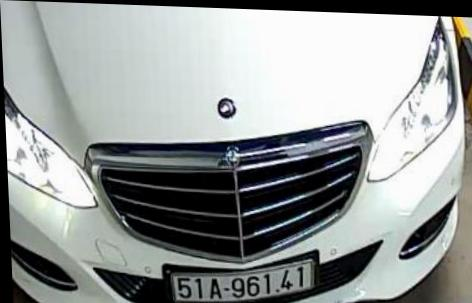License_Plate: (165, 261, 324, 303)
